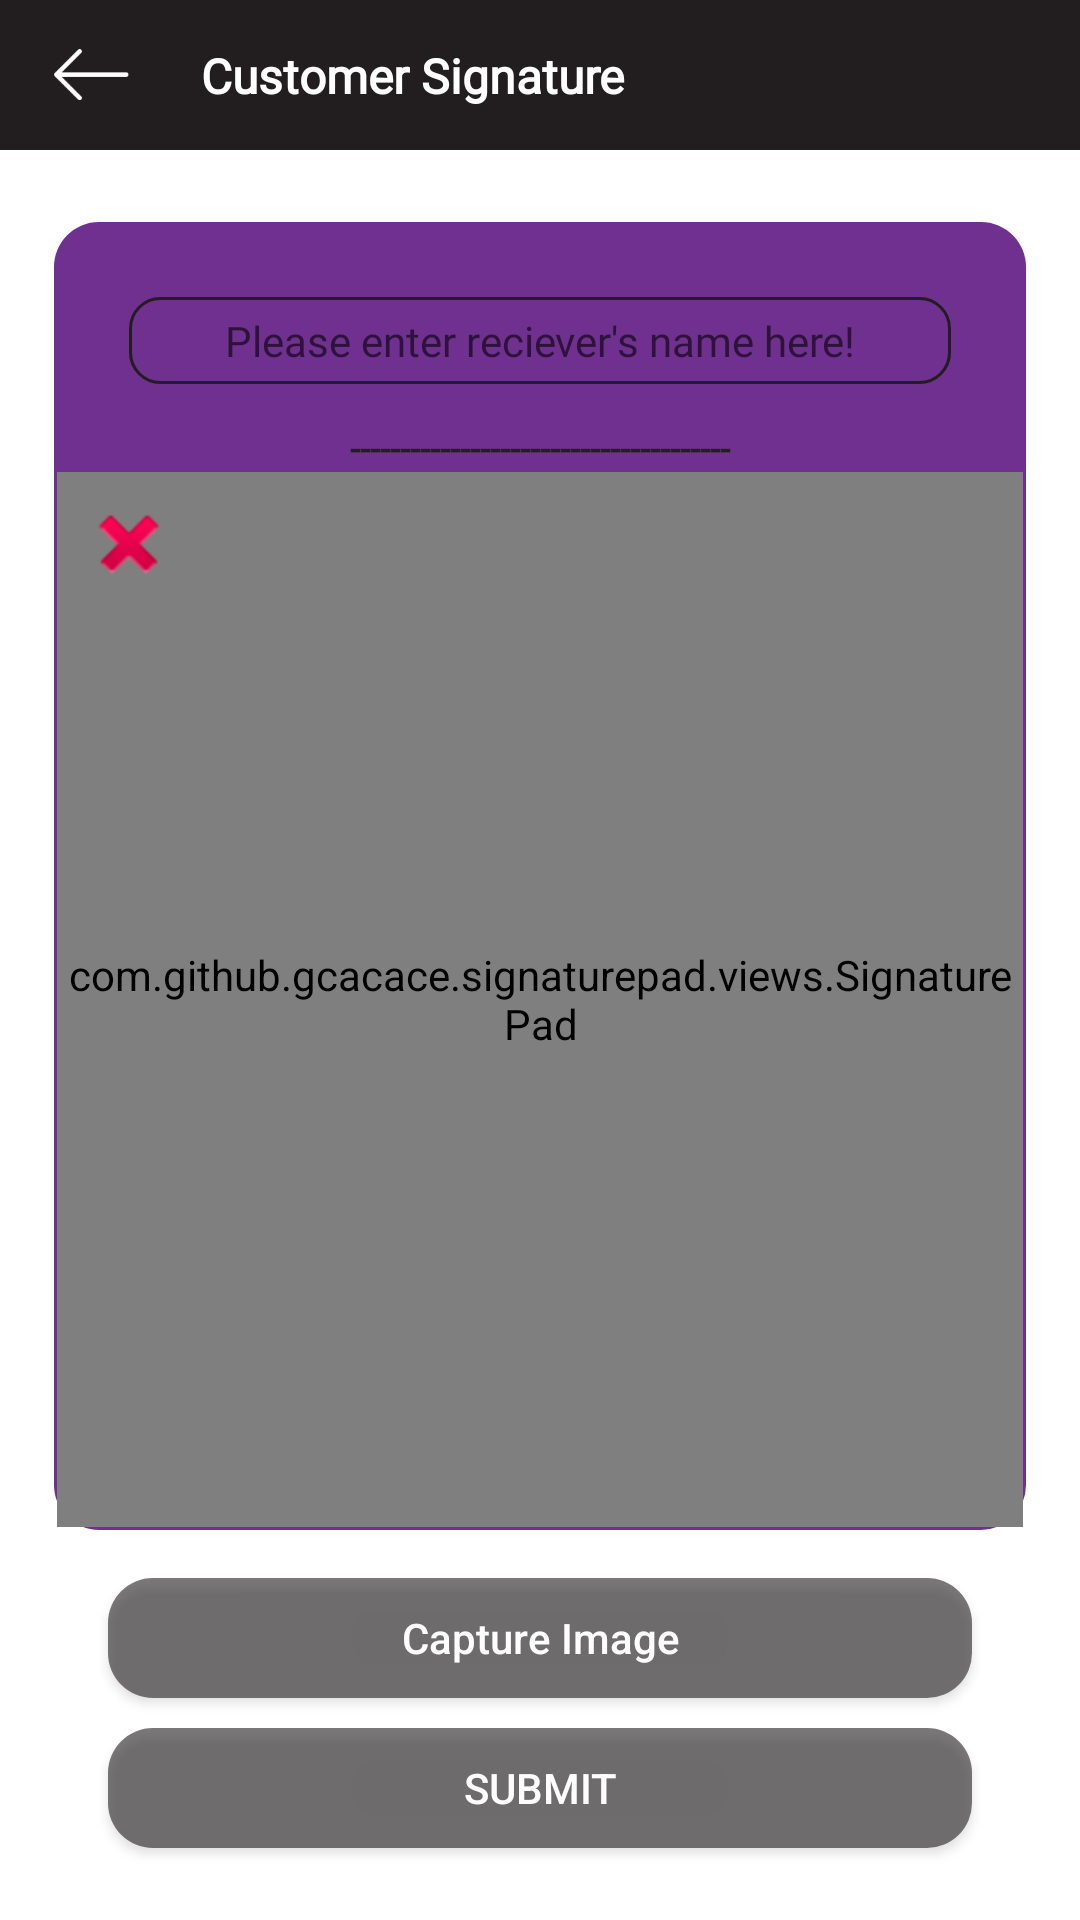

Point at icon controls on the screen. Image size 1080*1920, points as (x,y).
back: (91,74)
delete: (129,544)
